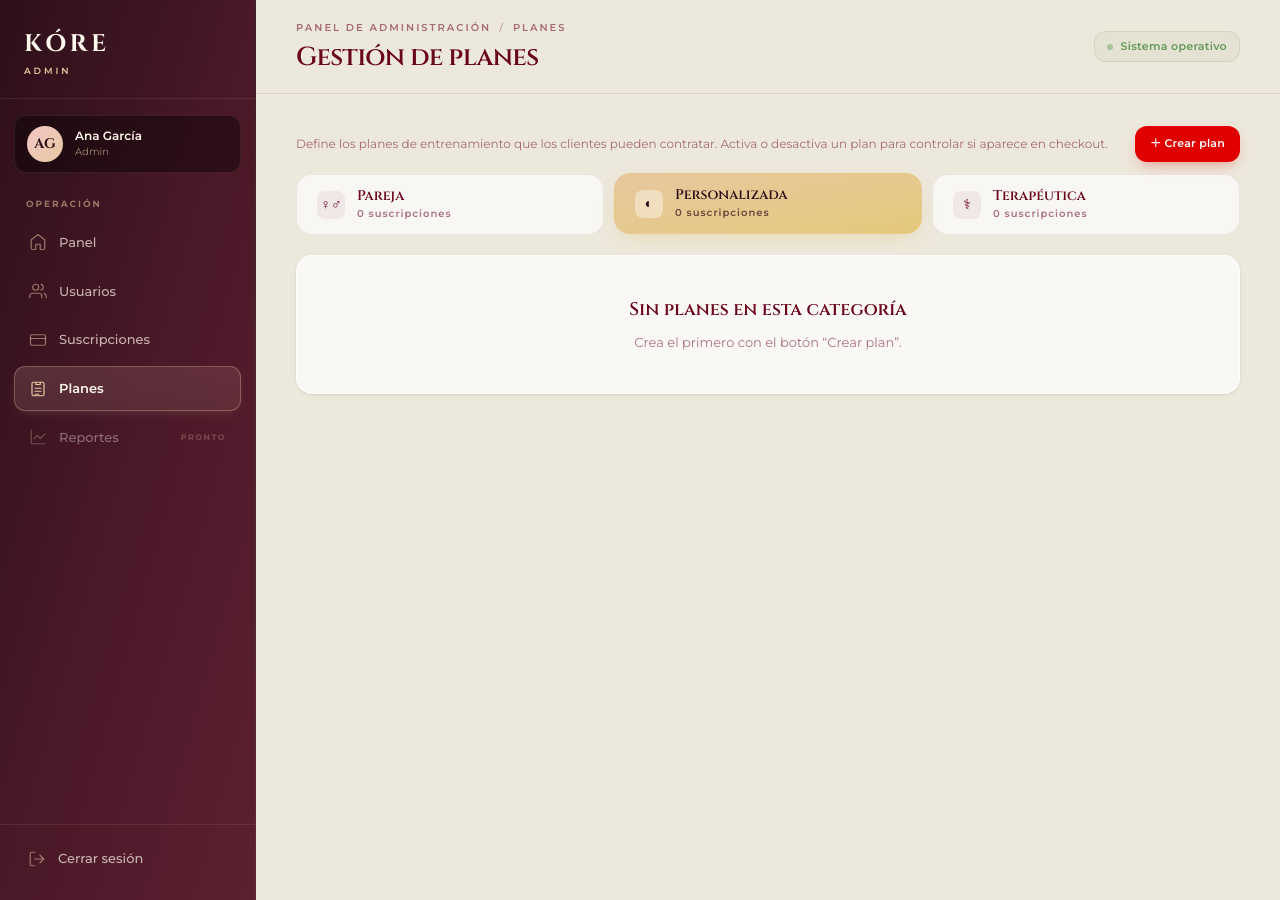
Test: AdminPlansPage › opens the create modal when the create plan button is clicked
The width and height of the screenshot is (1280, 900).
Click the button "＋ Crear plan".
click(1188, 144)  # box [1135, 126, 1240, 162]
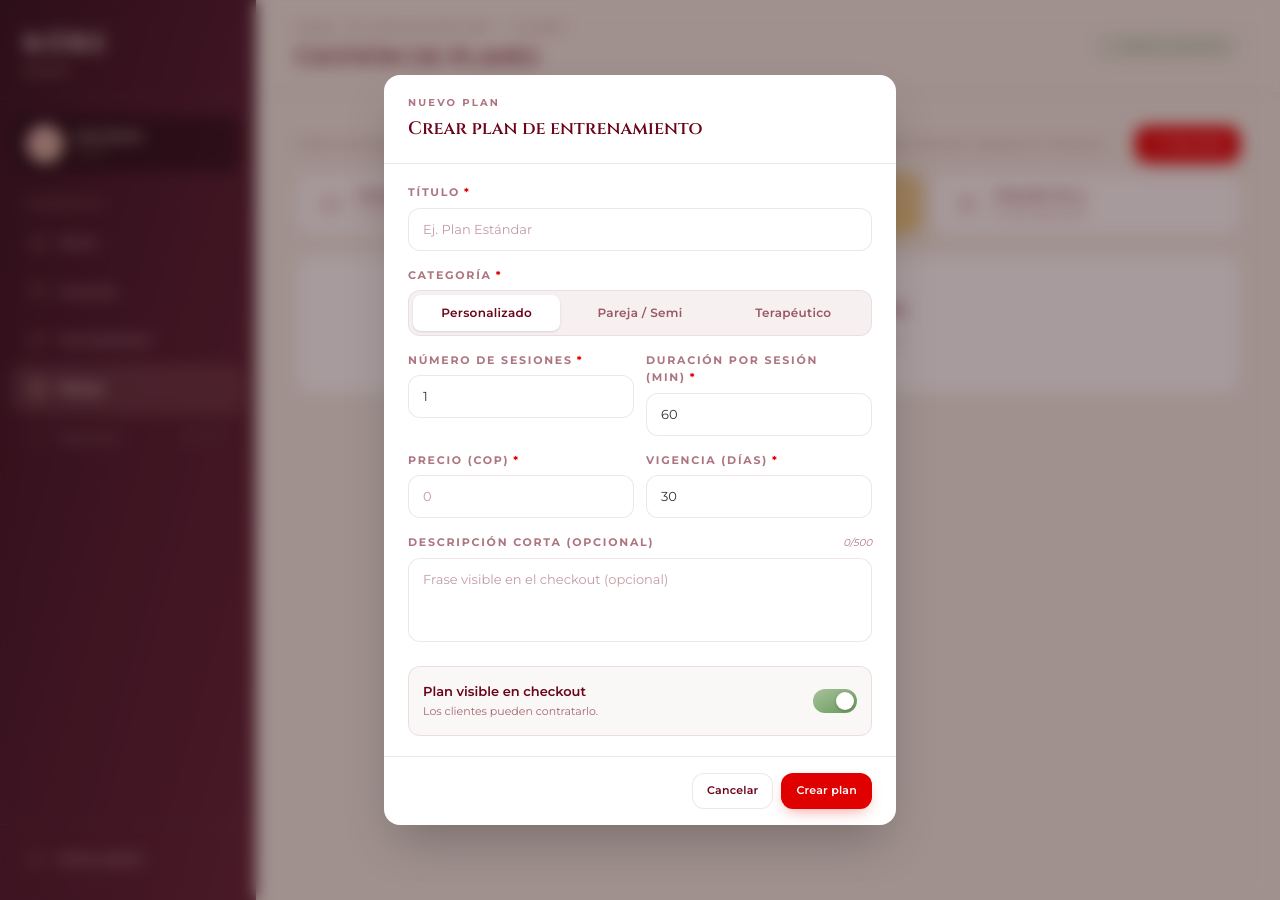
Expected: the text "Crear plan de entrenamiento" is shown, [408, 116, 702, 141]
